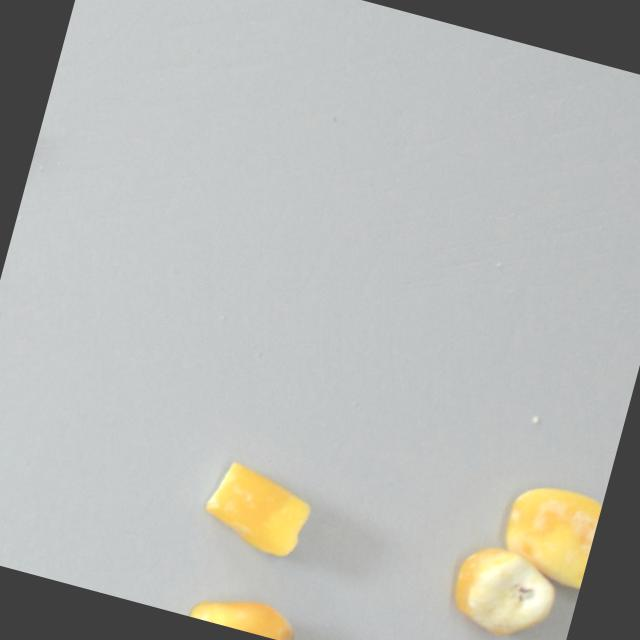dañado: (481, 474, 603, 592), (440, 538, 566, 640), (189, 584, 303, 640)
pelicula: (193, 453, 319, 571)
